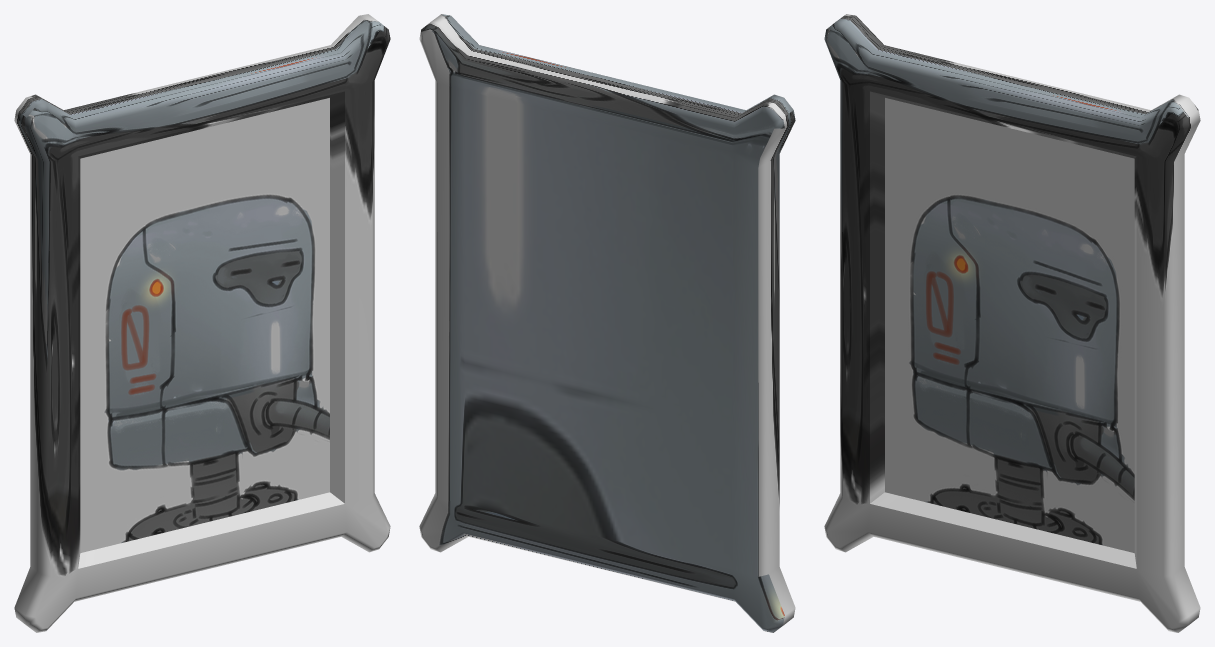
The model's file is Tableau_Robot.fbx.
3 renders of one model, left to right at view 1: azimuth 30°, elevation 25°; view 2: azimuth 150°, elevation 25°; view 3: azimuth 330°, elevation 25°, orthographic.
Parts seen in each view (by area): view 1: Tableau_Robot; view 2: Tableau_Robot; view 3: Tableau_Robot.
Boxes of the visible parts, left/top/right/bottom form: Tableau_Robot: left=14, top=14, right=390, bottom=632; Tableau_Robot: left=419, top=14, right=795, bottom=632; Tableau_Robot: left=824, top=14, right=1200, bottom=632.
Bounding box in the file's own units: 85.53 × 118 × 7.38.
Materials: 2 (2 with a texture image).
